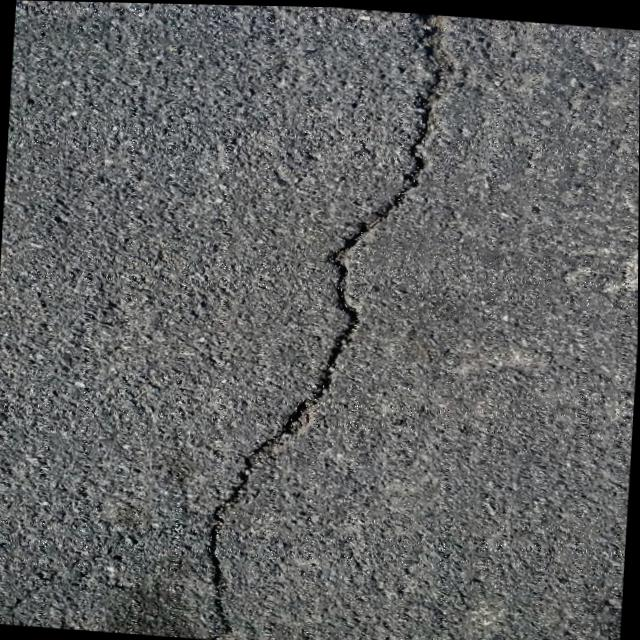Crack: (169, 3, 459, 640)
